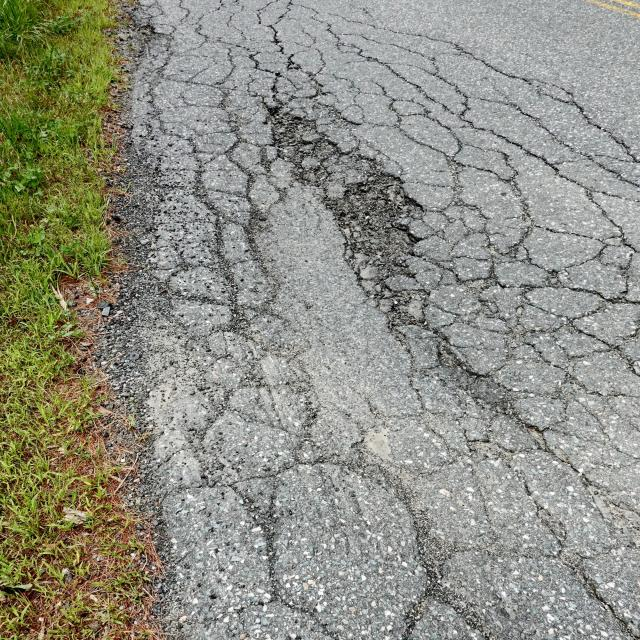Pothole: (14, 11, 640, 639)
